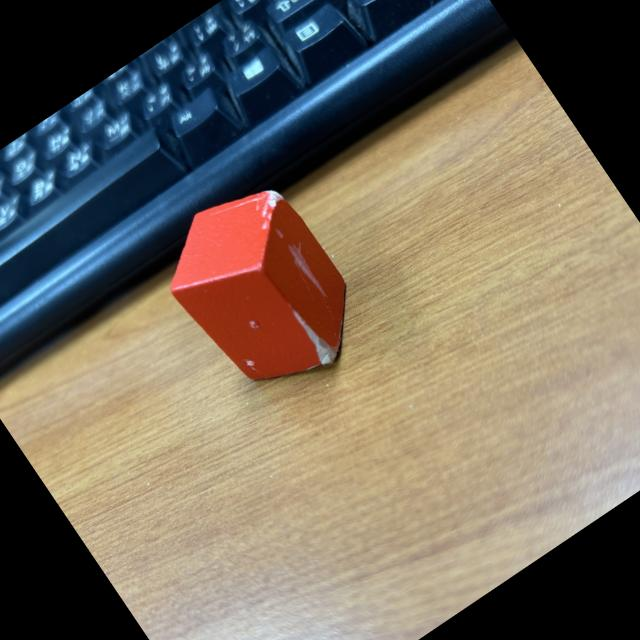broken: (142, 163, 382, 420)
